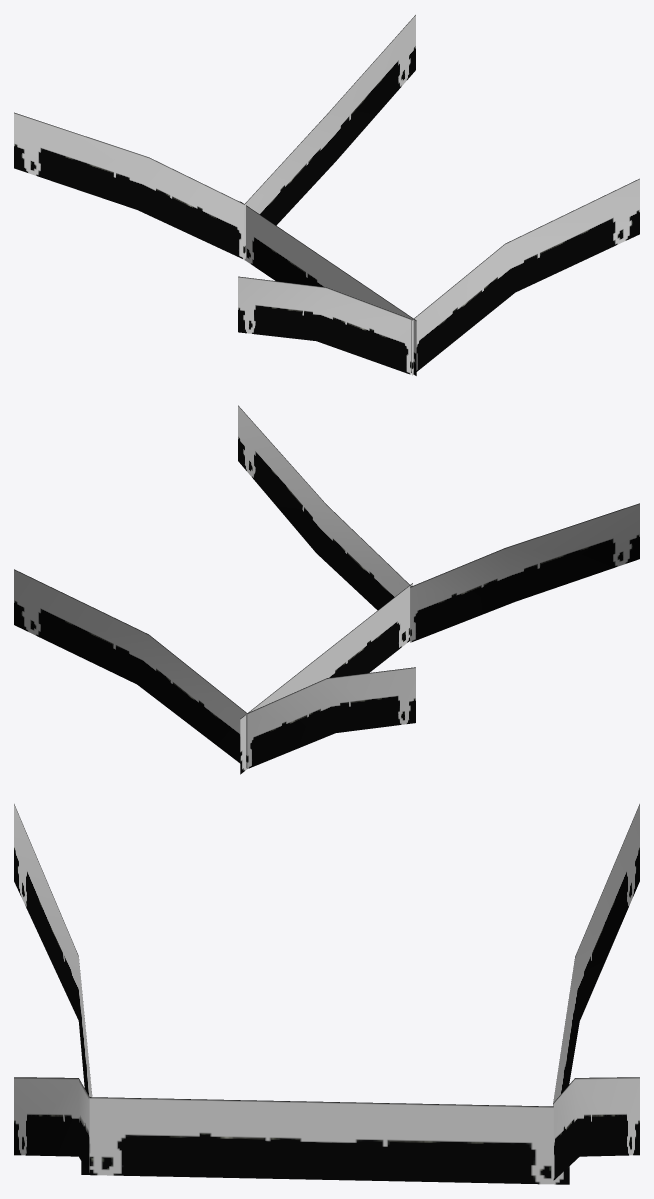
The picture shows the model from 3 angles, top to bottom: view 1: azimuth 30°, elevation 25°; view 2: azimuth 150°, elevation 25°; view 3: azimuth 270°, elevation 25°; orthographic projection. The views are drawn at different scales.
Visible parts, largest first — view 1: wy06; view 2: wy06; view 3: wy06.
Part boxes in pixels (<box>): wy06: <box>14,15,639,375</box>; wy06: <box>14,405,639,774</box>; wy06: <box>14,804,639,1184</box>.
Size of the model in its own units: 246 by 103 by 238.
